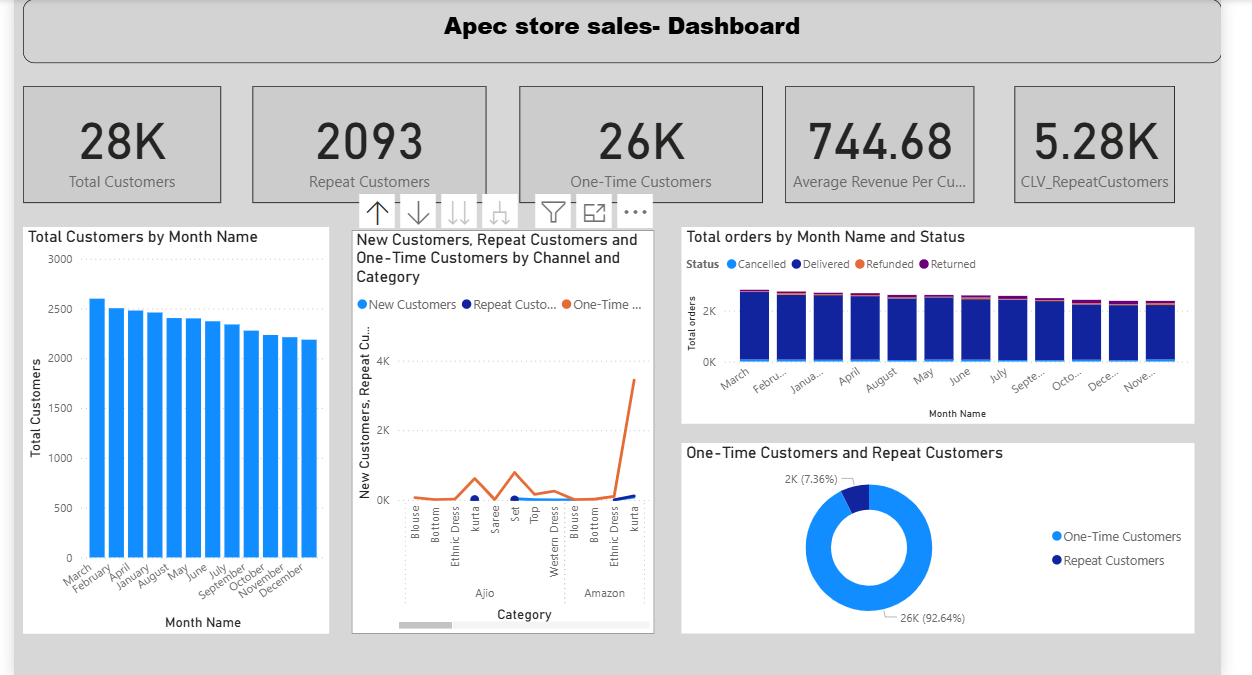

This screenshot's page, from the dashboard's own definition file:
{"tool":"powerbi","page":{"name":"Customer Analysis","canvas":[1280,720],"ordinal":2},"visuals":[{"type":"textbox","box":[9.7,0,1271.1,68],"z":0},{"type":"card","fields":{"Values":["metrics.Repeat Customers"]},"box":[311.8,92.3,265.6,124.1],"z":1000},{"type":"card","fields":{"Values":["metrics.One-Time Customers"]},"box":[612.4,92.3,287.9,124.1],"z":2000},{"type":"card","fields":{"Values":["metrics.Total Customers"]},"box":[9.5,92.3,270.4,124.1],"z":3000},{"type":"card","fields":{"Values":["metrics.Average Revenue Per Customer"]},"box":[938.5,92.3,237,124.1],"z":4000},{"type":"donutChart","fields":{"Y":["metrics.One-Time Customers","metrics.Repeat Customers"]},"box":[707.8,470.8,544,202],"z":5000},{"type":"columnChart","fields":{"Category":["Apec Stores.Month Name"],"Y":["metrics.Total Customers"]},"box":[9.5,241.8,324.5,431.1],"z":5001},{"type":"lineChart","fields":{"Category":["Apec Stores.Channel ","Apec Stores.Category"],"Y":["metrics.New Customers","metrics.Repeat Customers","metrics.One-Time Customers"]},"box":[357.9,244.9,321.3,427.9],"z":5002},{"type":"columnChart","fields":{"Category":["Apec Stores.Month Name"],"Y":["metrics.Total orders"],"Series":["Apec Stores.Status"]},"box":[707.8,241.8,544,208.4],"z":5003}]}

Visuals, with their boxes on the page's 1280x720 design canvas (x1, y1, x2, y2). These are canvas units, not pixel positions in the 1252x675 screenshot, which may show the page scaled, cropped or inside an application window:
textbox: [10,0,1281,68]
card - metrics.Repeat Customers: [312,92,577,216]
card - metrics.One-Time Customers: [612,92,900,216]
card - metrics.Total Customers: [10,92,280,216]
card - metrics.Average Revenue Per Customer: [938,92,1176,216]
donutChart - metrics.One-Time Customers x metrics.Repeat Customers: [708,471,1252,673]
columnChart - Apec Stores.Month Name x metrics.Total Customers: [10,242,334,673]
lineChart - Apec Stores.Channel  x Apec Stores.Category: [358,245,679,673]
columnChart - Apec Stores.Month Name x metrics.Total orders: [708,242,1252,450]
